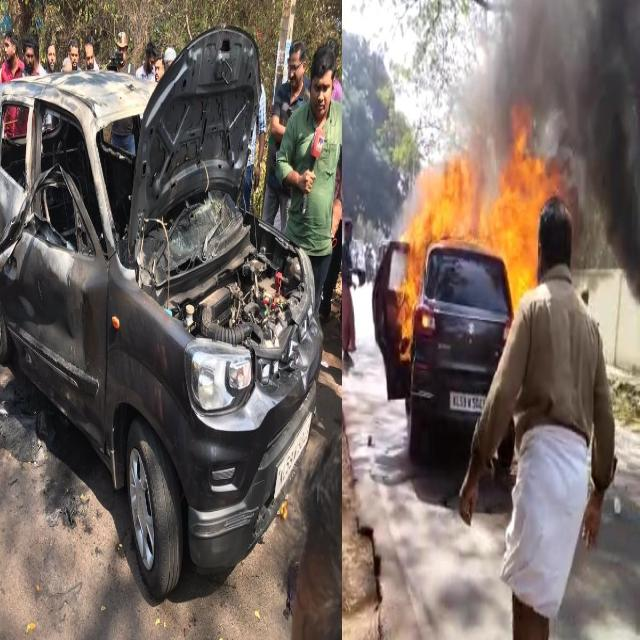accident: (0, 28, 322, 596), (372, 110, 565, 459)
